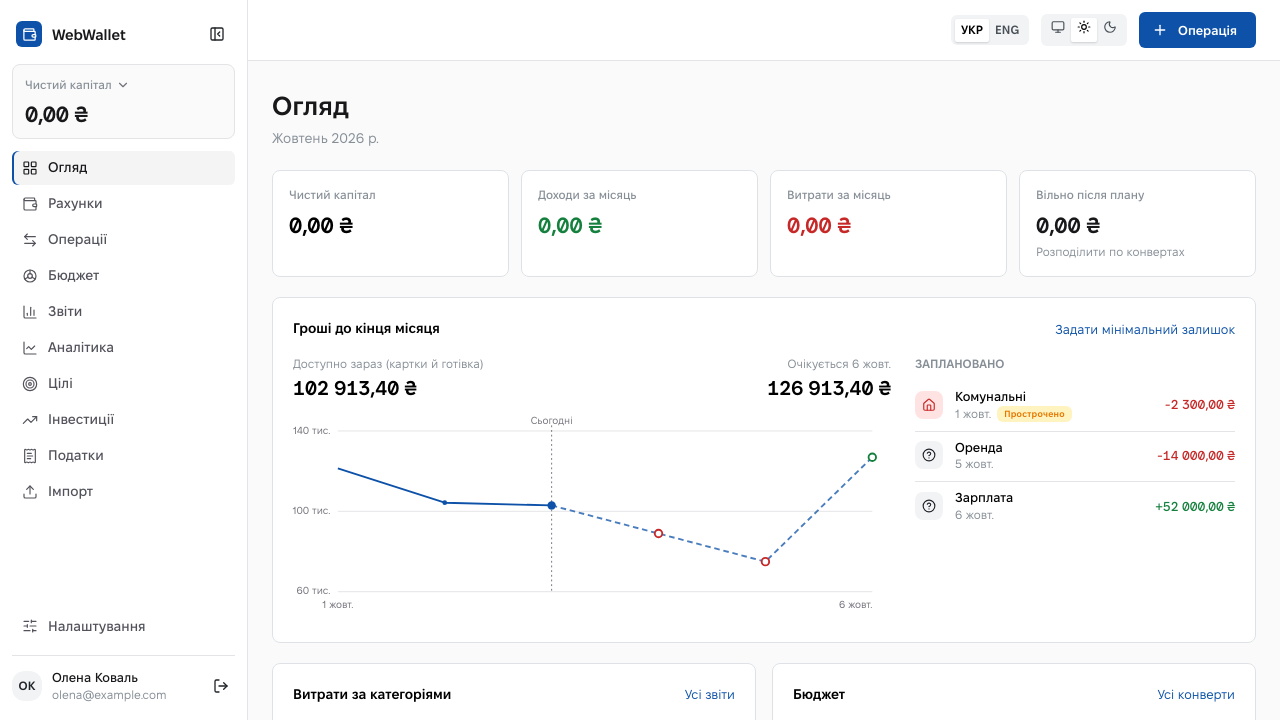
warns when the forecast drops below the minimum the viewer set
Click the button "Задати мінімальний залишок" at x=1145, y=329, box [1055, 320, 1235, 339]
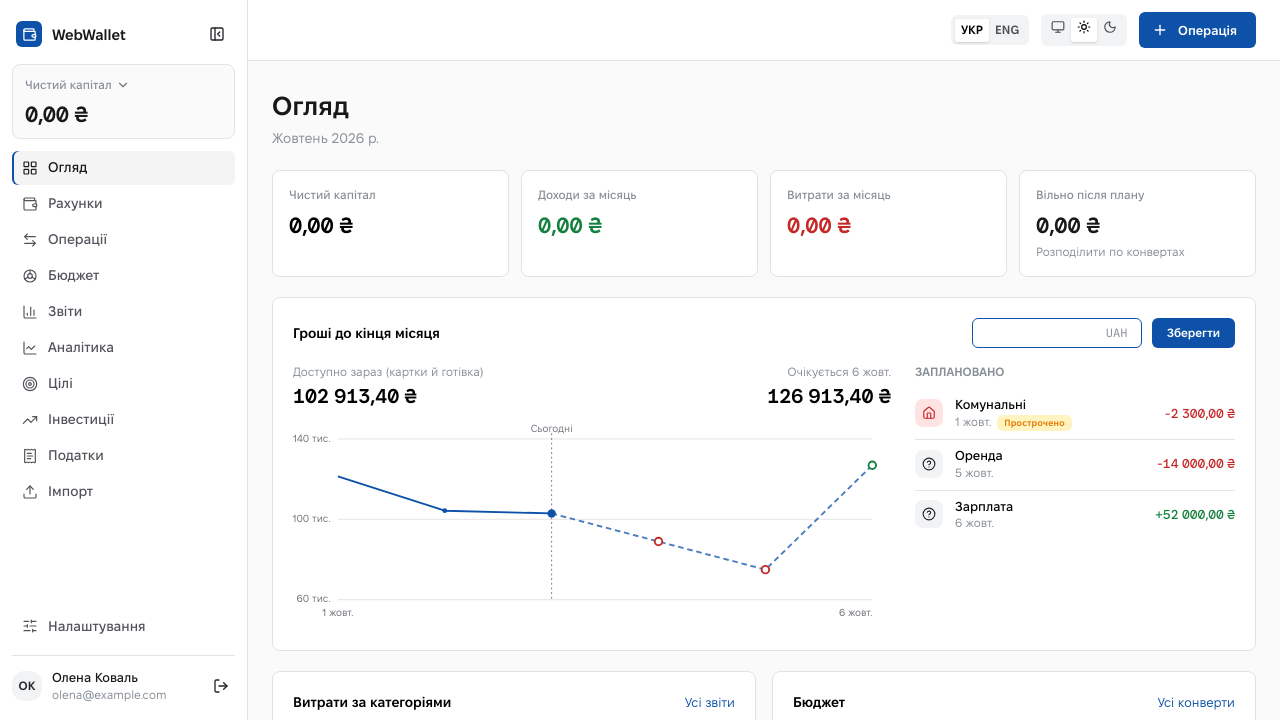
Type "80000" into the field named "Мінімальний залишок" at x=1057, y=334, box [972, 318, 1142, 348]
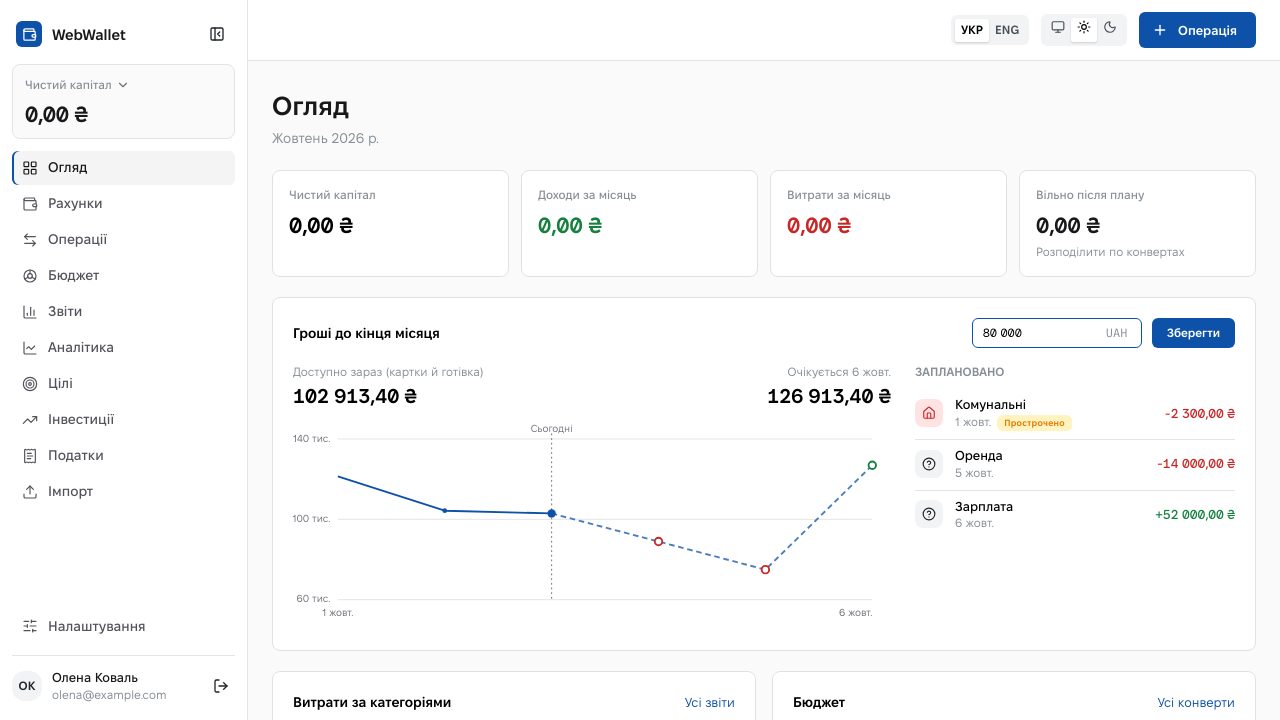
Click the button "Зберегти" at x=1193, y=334, box [1152, 318, 1235, 348]
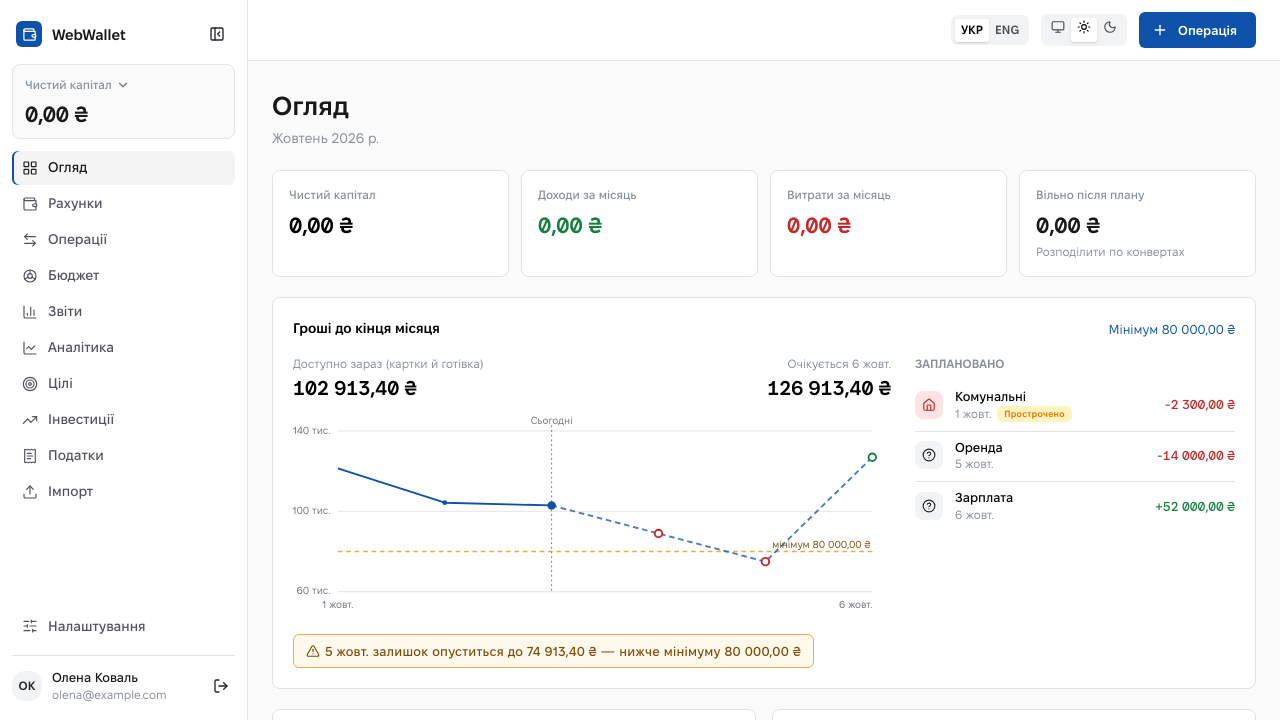
Expected: the text "залишок опуститься до" reads "5 жовт. залишок опуститься до 74 913,40 ₴ — нижче мінімуму 80 000,00 ₴", [325, 644, 801, 658]
